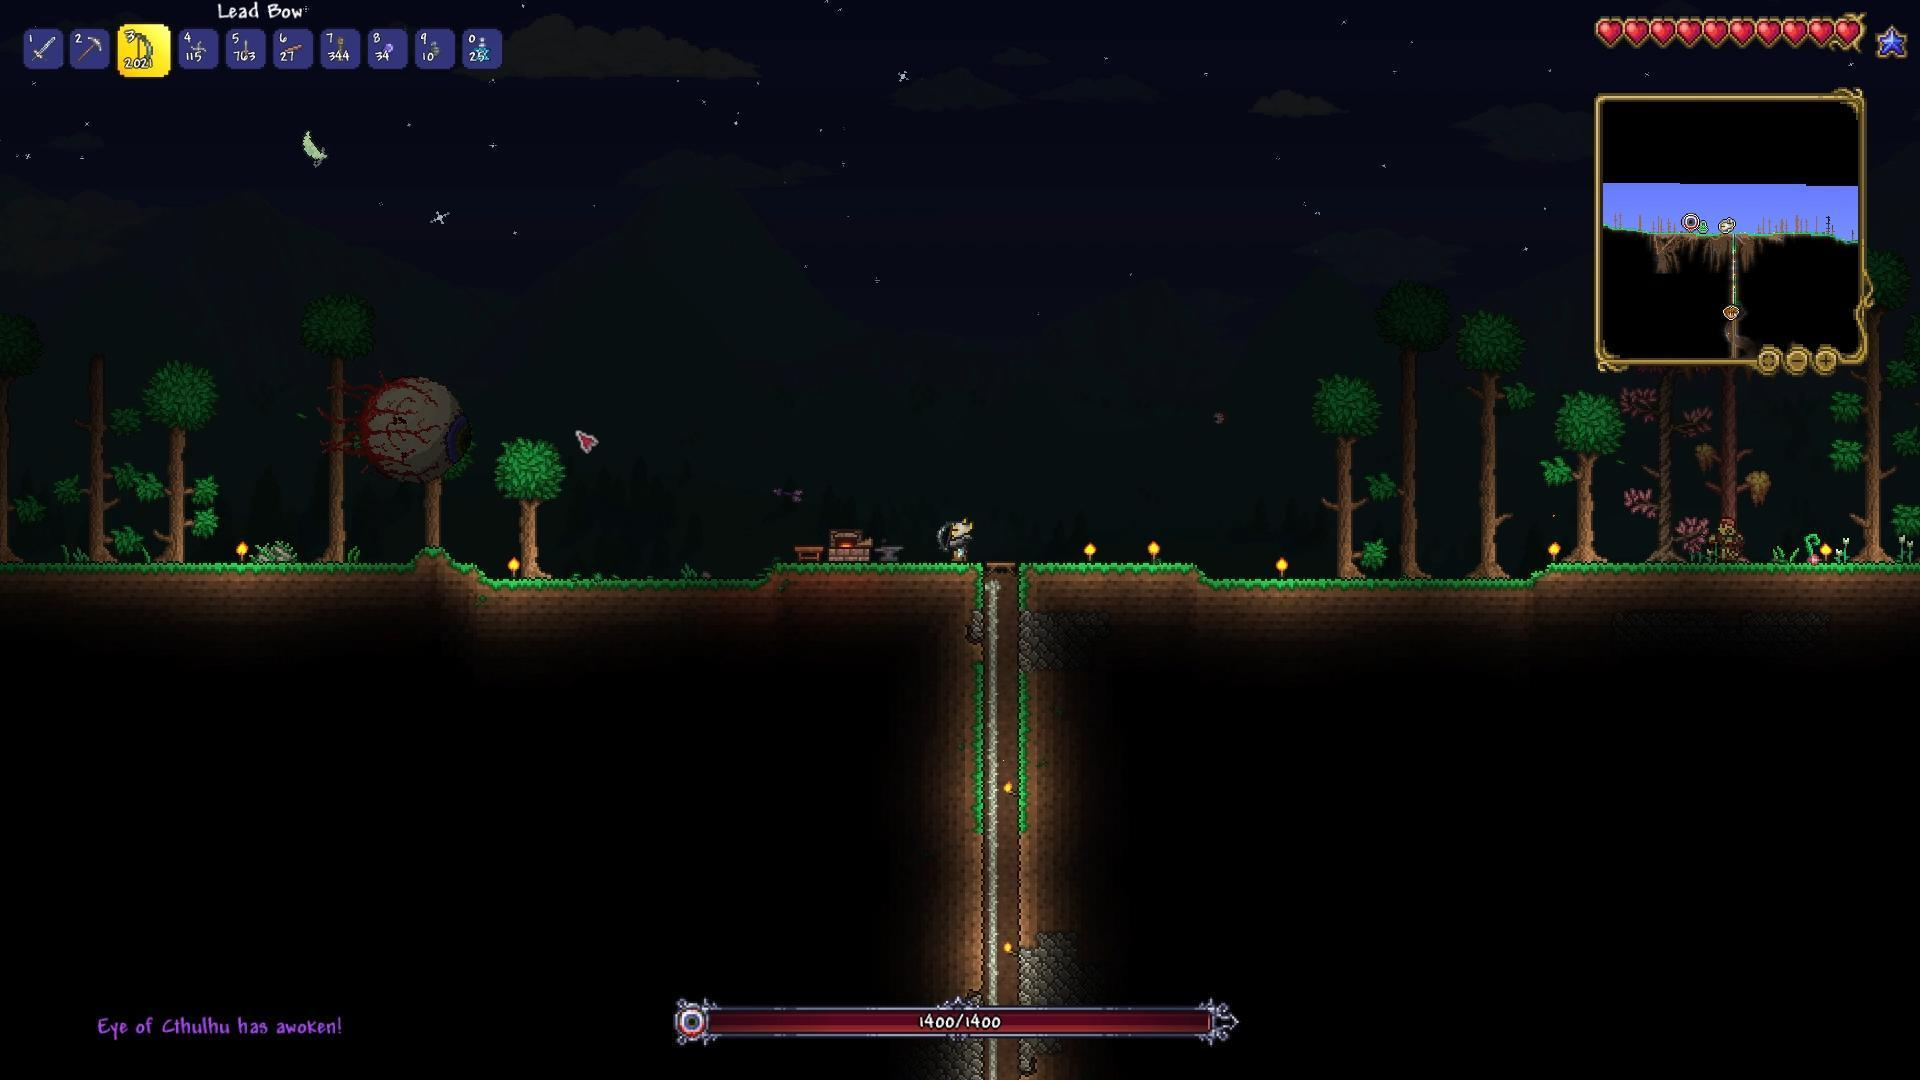eyeC: (305, 367, 477, 487)
